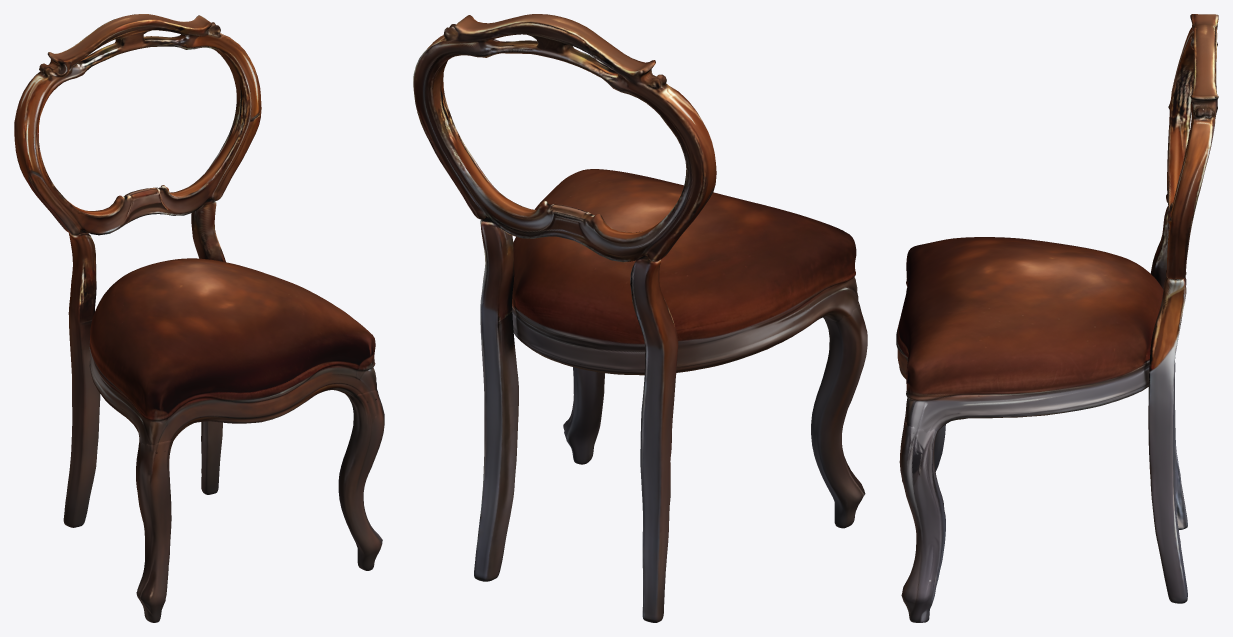
3 renders of one model, left to right at view 1: azimuth 30°, elevation 25°; view 2: azimuth 150°, elevation 25°; view 3: azimuth 270°, elevation 25°, orthographic. The views are drawn at different scales.
Visible parts, largest first — view 1: root.0, root.1, root.3, root.4, root.5, root.2; view 2: root.0, root.1, root.2, root.3, root.4, root.5; view 3: root.0, root.1, root.2, root.5, root.3.
Part boxes in pixels (x1,y1,x2,y2): root.0: (89,258,376,453); root.1: (14,14,261,235); root.3: (63,230,100,527); root.4: (136,440,172,622); root.5: (338,389,384,570); root.2: (191,199,225,494); root.0: (512,169,859,375); root.1: (413,14,716,262); root.2: (474,217,518,581); root.3: (630,255,678,622); root.4: (811,301,867,528); root.5: (563,367,604,464); root.0: (896,237,1163,433); root.1: (1166,14,1218,279); root.2: (1148,276,1187,603); root.5: (899,417,945,622); root.3: (1150,206,1187,529).
Size of the model in its own units: 0.485 by 0.925 by 0.5094.
Materials: 6 (6 with a texture image).
